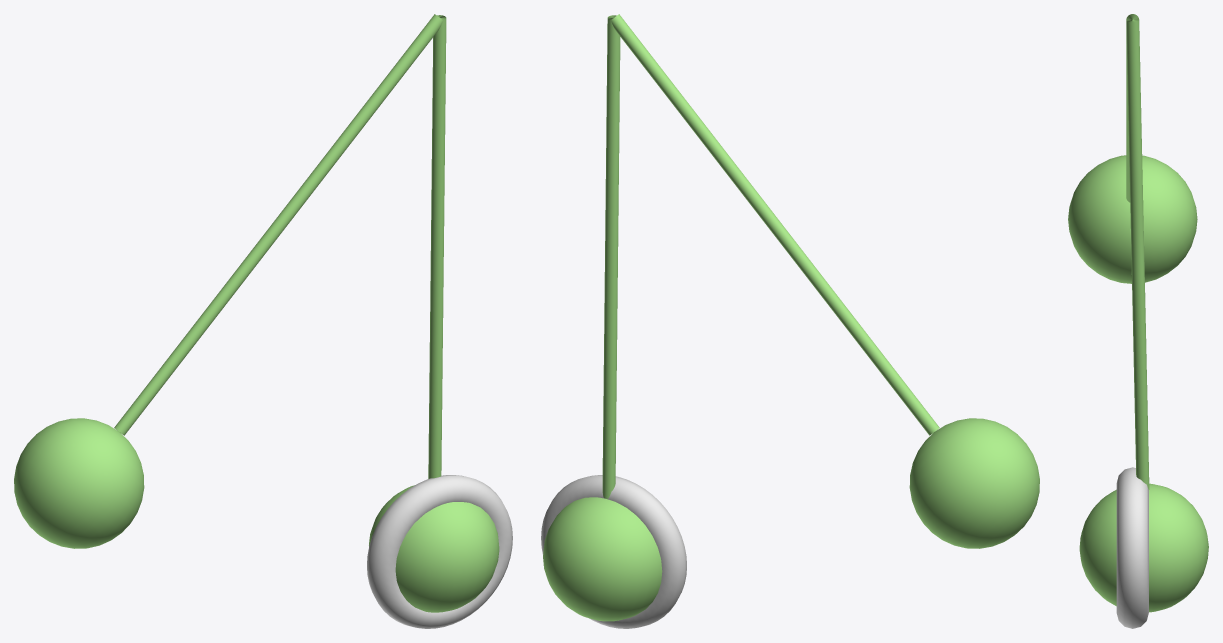
3 views of the same model, side by side, from view 1: azimuth 30°, elevation 25°; view 2: azimuth 150°, elevation 25°; view 3: azimuth 270°, elevation 25° (orthographic).
Visible parts, largest first — view 1: 球体, 球体.001, 环体, 柱体, 柱体.001; view 2: 球体, 球体.001, 柱体, 柱体.001, 环体; view 3: 球体, 球体.001, 柱体.001, 环体, 柱体.
Part boxes in pixels (x1,y1,x2,y2): 球体: [14, 418, 144, 548]; 球体.001: [369, 485, 499, 612]; 环体: [367, 475, 512, 628]; 柱体: [114, 14, 442, 435]; 柱体.001: [428, 15, 446, 478]; 球体: [909, 418, 1039, 548]; 球体.001: [543, 497, 662, 621]; 柱体: [611, 14, 939, 435]; 柱体.001: [602, 15, 620, 498]; 环体: [541, 475, 686, 628]; 球体: [1068, 155, 1197, 283]; 球体.001: [1079, 483, 1208, 612]; 柱体.001: [1126, 20, 1149, 489]; 环体: [1116, 467, 1148, 628]; 柱体: [1126, 14, 1139, 202].
Size of what is drawn, in the model's own units: 8.61 by 10.32 by 2.18.
